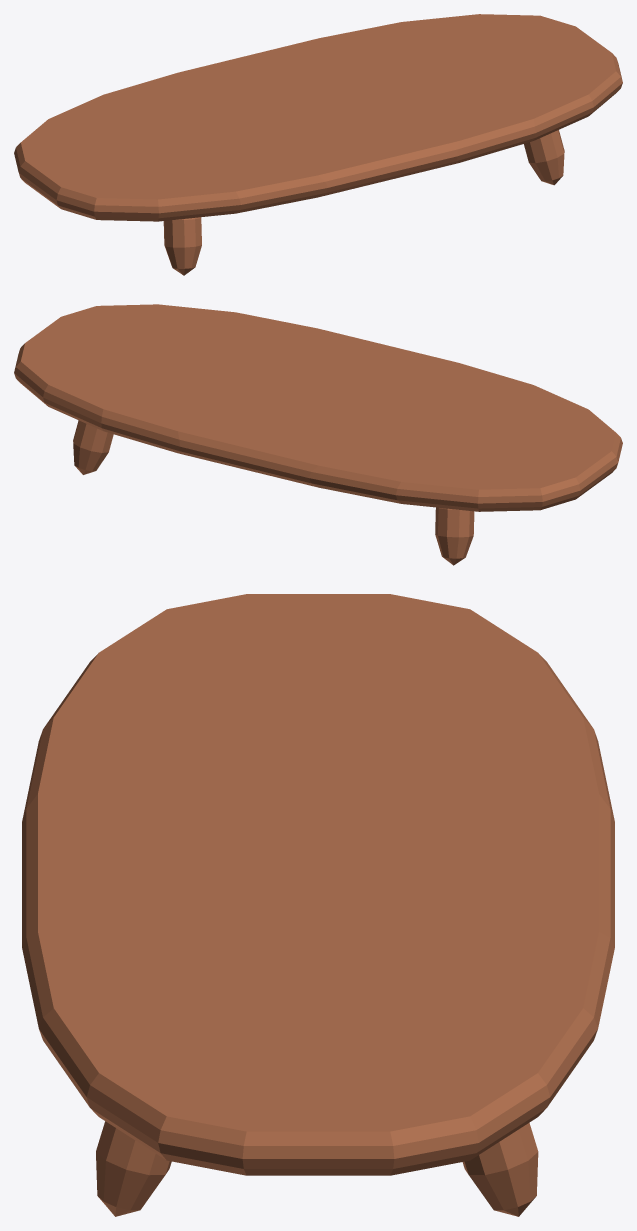
The model's file is LivingRoomTable.fbx.
The picture shows the model from 3 angles, top to bottom: view 1: azimuth 30°, elevation 25°; view 2: azimuth 150°, elevation 25°; view 3: azimuth 270°, elevation 25°; orthographic projection. The views are drawn at different scales.
Visible parts, largest first — view 1: TableLivingRoom; view 2: TableLivingRoom; view 3: TableLivingRoom.
Boxes of the visible parts, x1,y1,x2,y2 form: TableLivingRoom: [14, 14, 622, 275]; TableLivingRoom: [14, 304, 622, 565]; TableLivingRoom: [22, 594, 614, 1216].
Bounding box in the file's own units: 2.18 × 0.3217 × 0.9971.
Materials: 1 (1 with a texture image).
